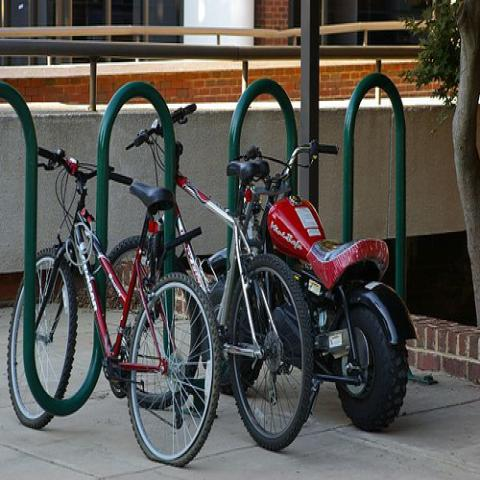motorcycle: (257, 144, 419, 432)
